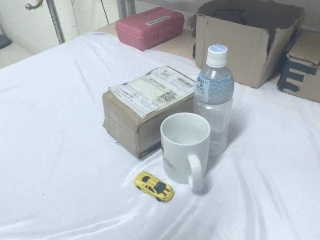bottle: (193, 44, 234, 158)
box: (194, 1, 303, 87), (103, 67, 195, 158), (114, 1, 187, 53), (277, 30, 320, 106)
cup: (160, 112, 211, 194)
toy_car: (134, 172, 174, 203)
